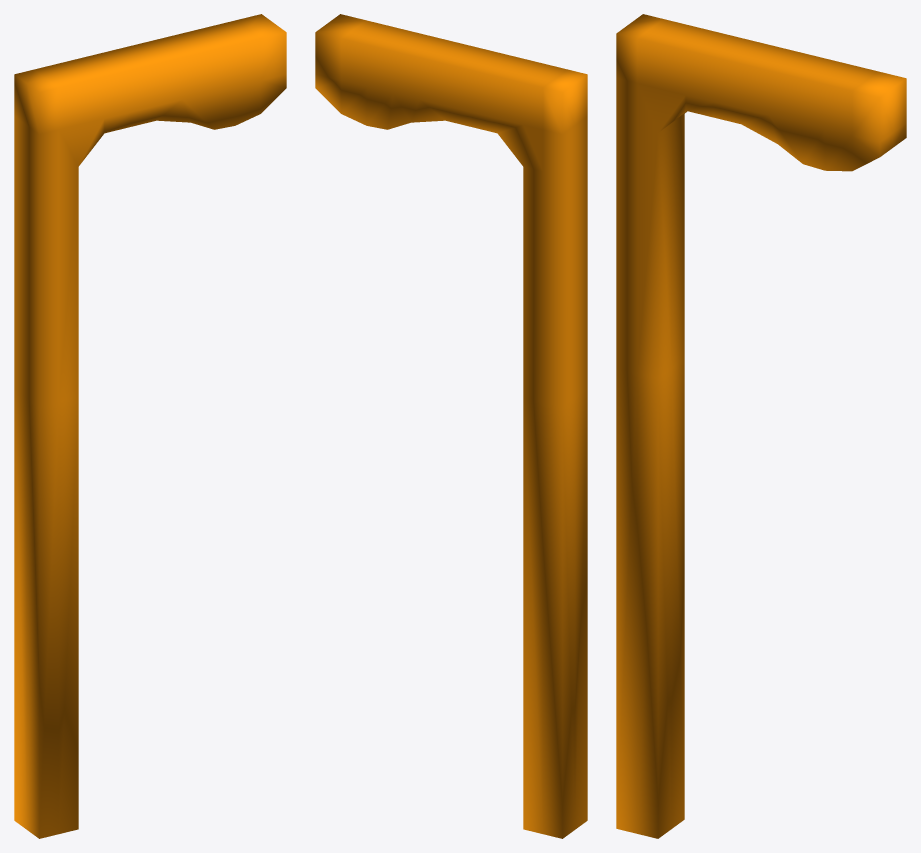
Rendered from floor (5).obj.
3 renders of one model, left to right at view 1: azimuth 30°, elevation 25°; view 2: azimuth 150°, elevation 25°; view 3: azimuth 330°, elevation 25°, orthographic. The views are drawn at different scales.
Visible parts, largest first — view 1: floor (5); view 2: floor (5); view 3: floor (5).
Boxes of the visible parts, x1,y1,x2,y2 form: floor (5): [14, 14, 286, 838]; floor (5): [315, 14, 587, 838]; floor (5): [616, 14, 906, 838].
Size of the model in its own units: 4.75 by 13.71 by 0.8318.
